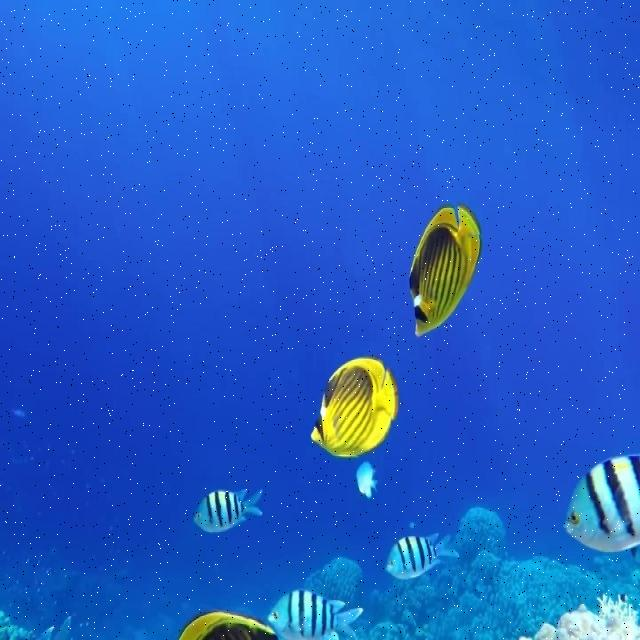fish: (306, 356, 400, 464), (407, 201, 481, 337), (563, 453, 639, 553), (269, 588, 366, 639), (385, 530, 458, 580), (195, 488, 266, 537), (179, 609, 277, 639), (354, 462, 379, 501)
